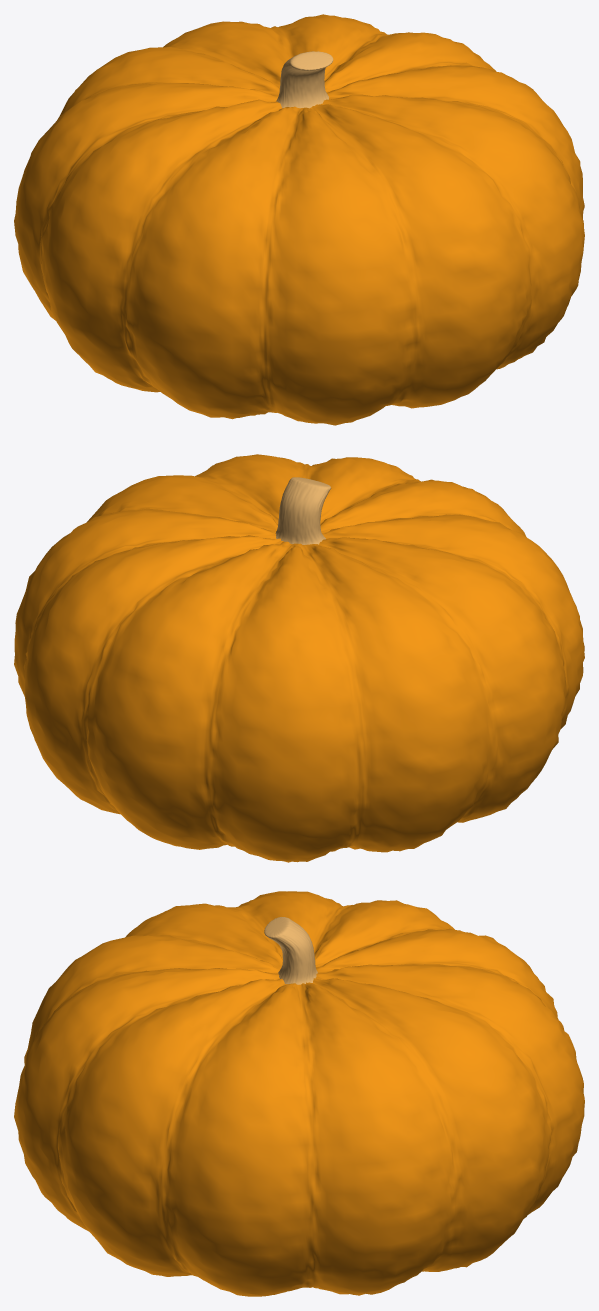
File: pumpkin6K.fbx
3 renders of one model, top to bottom at view 1: azimuth 30°, elevation 25°; view 2: azimuth 150°, elevation 25°; view 3: azimuth 270°, elevation 25°, orthographic.
Visible parts, largest first — view 1: Sphere.005, Cylinder.004; view 2: Sphere.005, Cylinder.004; view 3: Sphere.005, Cylinder.004.
Part boxes in pixels (x1,y1,x2,y2): Sphere.005: (14, 14, 584, 425); Cylinder.004: (276, 51, 333, 108); Sphere.005: (14, 454, 584, 862); Cylinder.004: (275, 477, 331, 544); Sphere.005: (14, 891, 584, 1296); Cylinder.004: (264, 917, 317, 984).
Size of the model in its own units: 97.42 by 56.51 by 98.04.
